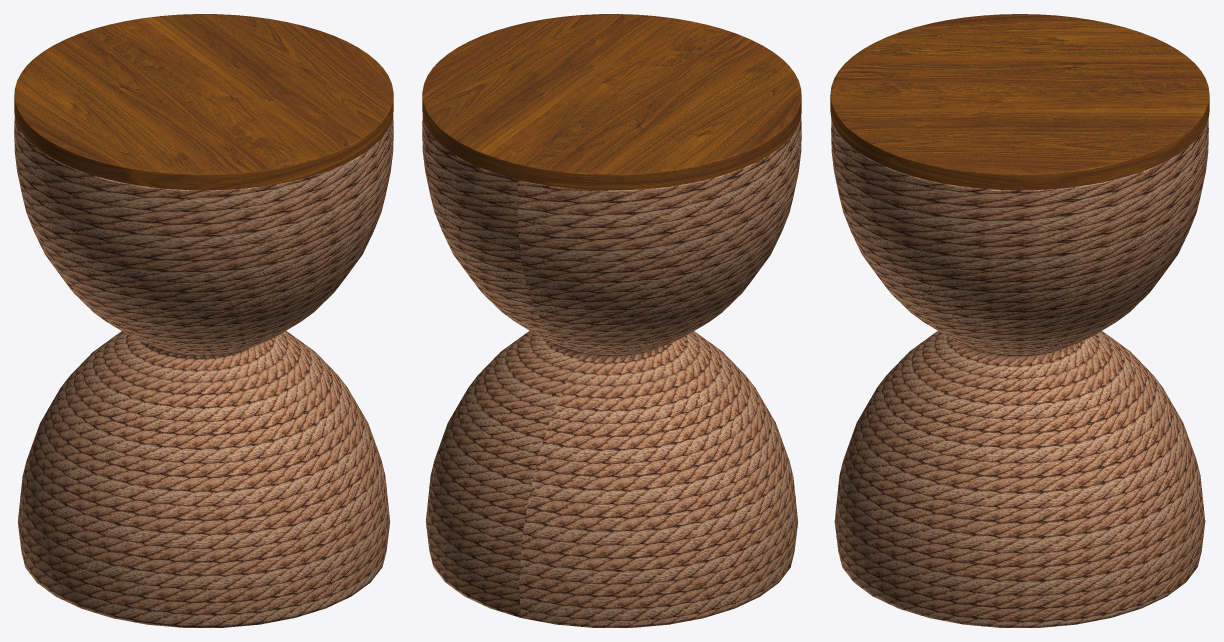
The model's file is Deva-Round-SIde-Table.glb.
3 renders of one model, left to right at view 1: azimuth 30°, elevation 25°; view 2: azimuth 150°, elevation 25°; view 3: azimuth 270°, elevation 25°, orthographic.
Parts seen in each view (by area): view 1: Plane, Cylinder; view 2: Plane, Cylinder; view 3: Plane, Cylinder.
Part boxes in pixels (<box>): Plane: <box>14,115,393,627</box>; Cylinder: <box>14,14,393,190</box>; Plane: <box>422,115,801,627</box>; Cylinder: <box>422,14,801,190</box>; Plane: <box>831,119,1208,627</box>; Cylinder: <box>830,14,1209,190</box>.
Size of the model in its own units: 0.3514 by 0.4677 by 0.3514.
2 materials, 2 textured.
